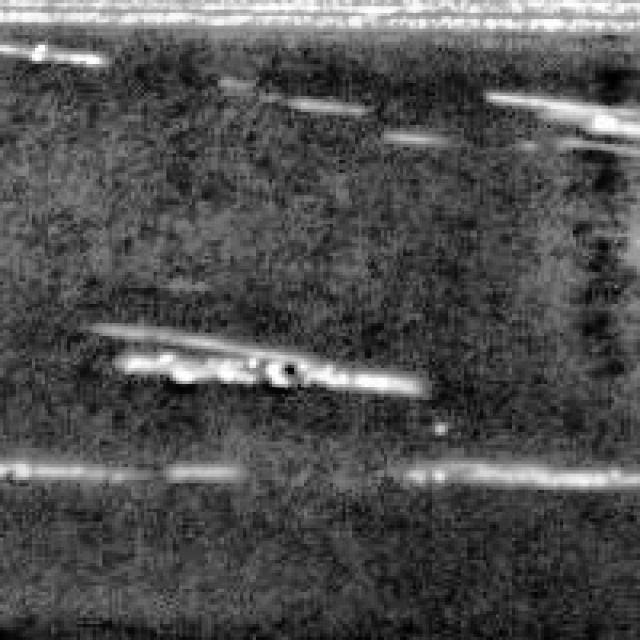Inclusion: (0, 0, 634, 64), (76, 304, 442, 406), (356, 448, 636, 496), (477, 80, 637, 160), (0, 448, 240, 486)
